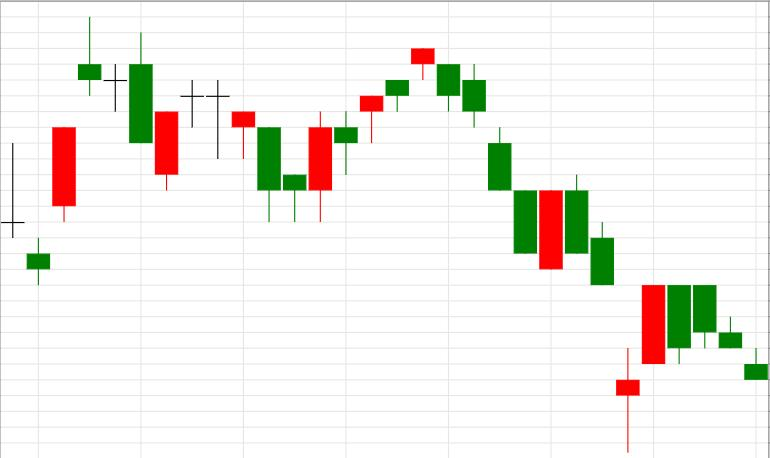bullish_engulfing_rise: (181, 79, 332, 223)
